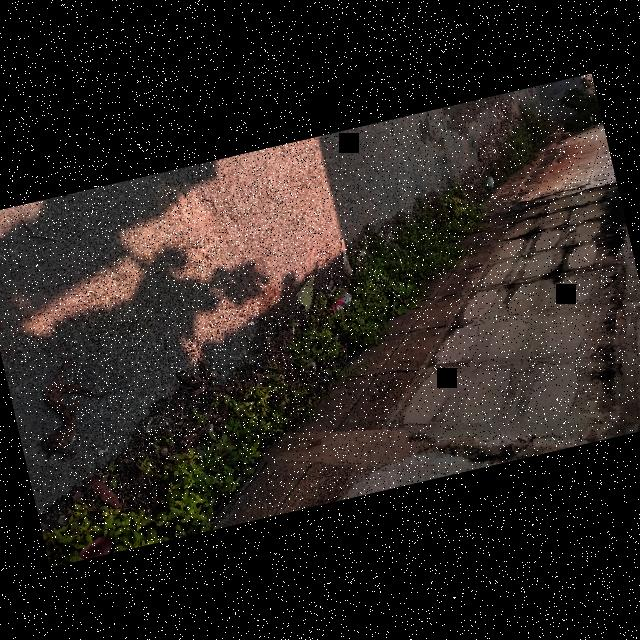plastic_box: (482, 176, 494, 192)
plastic_cup: (328, 290, 356, 317)
